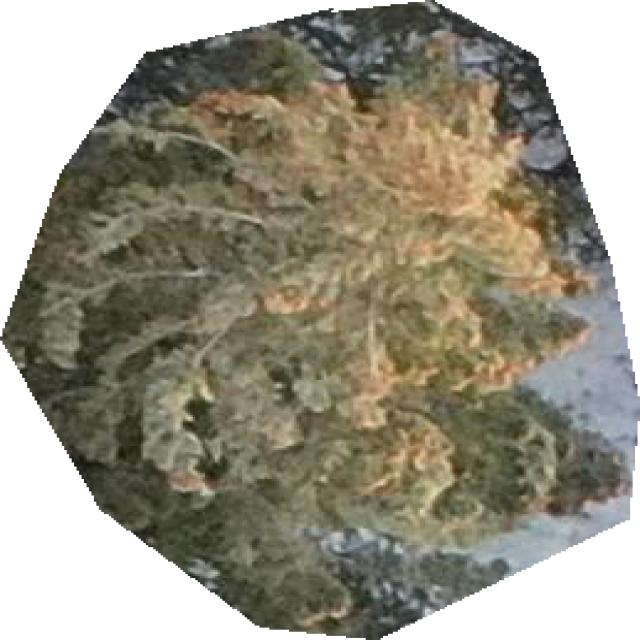spruce: (0, 0, 635, 638)
